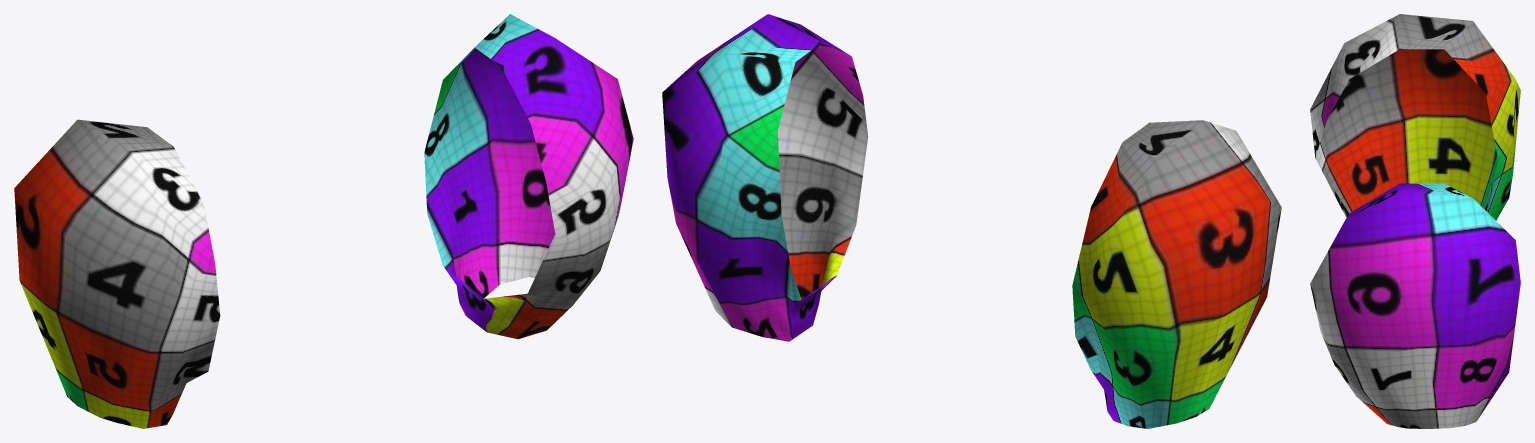
The model's file is 2_Short_sleeve.glb.
3 views of the same model, side by side, from view 1: azimuth 30°, elevation 25°; view 2: azimuth 150°, elevation 25°; view 3: azimuth 270°, elevation 25° (orthographic). The views are drawn at different scales.
Parts seen in each view (by area): view 1: Sleeves.001_blouse_Sleeve.001_butterfly_hoodie_Cube.001_Cube; view 2: Sleeves.001_blouse_Sleeve.001_butterfly_hoodie_Cube.001_Cube; view 3: Sleeves.001_blouse_Sleeve.001_butterfly_hoodie_Cube.001_Cube.
Boxes of the visible parts, box(x1,y1,x2,y2) form: Sleeves.001_blouse_Sleeve.001_butterfly_hoodie_Cube.001_Cube: box(14, 14, 633, 428); Sleeves.001_blouse_Sleeve.001_butterfly_hoodie_Cube.001_Cube: box(662, 14, 1281, 428); Sleeves.001_blouse_Sleeve.001_butterfly_hoodie_Cube.001_Cube: box(1310, 14, 1520, 428).
Size of the model in its own units: 0.4742 by 0.2305 by 0.1811.
Materials: 1 (1 with a texture image).
